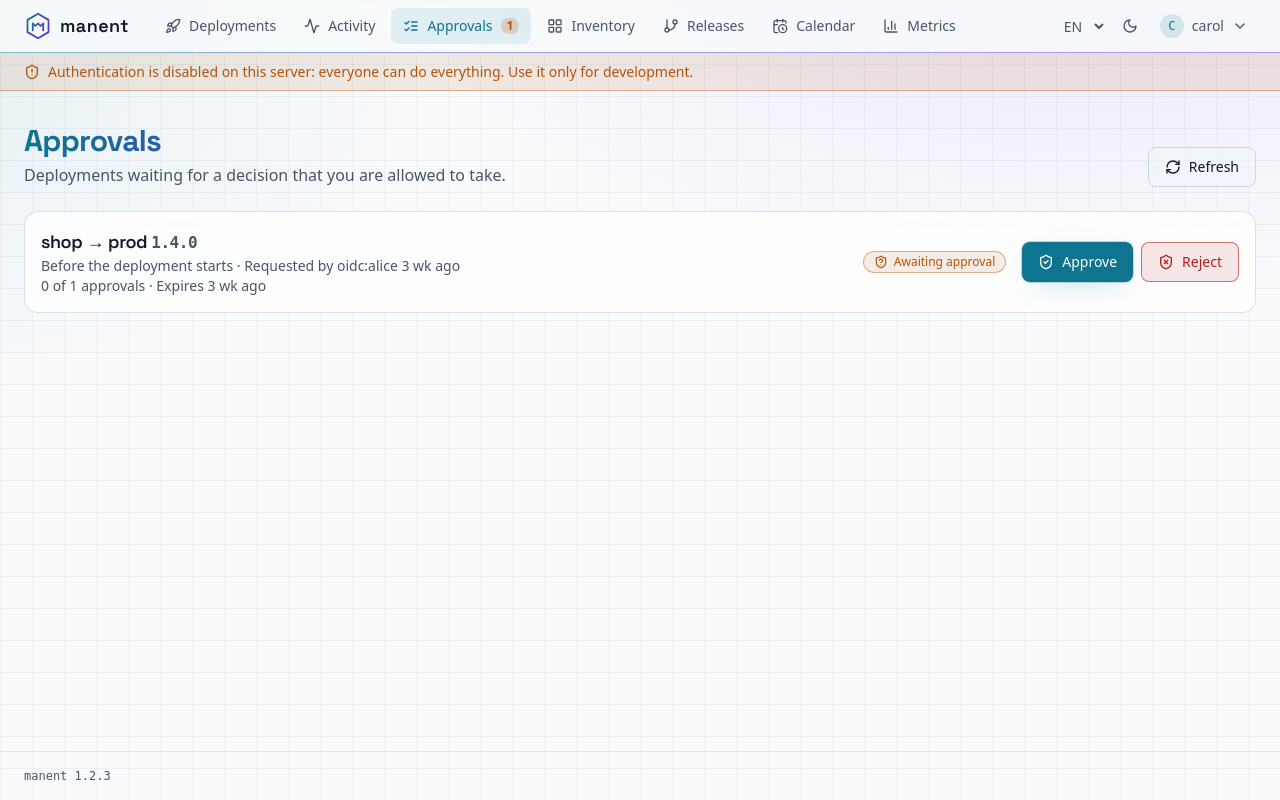
Test: approvazioni › approva con un commento
Click the button "Approve": (1078,262) [1022,242,1133,282]
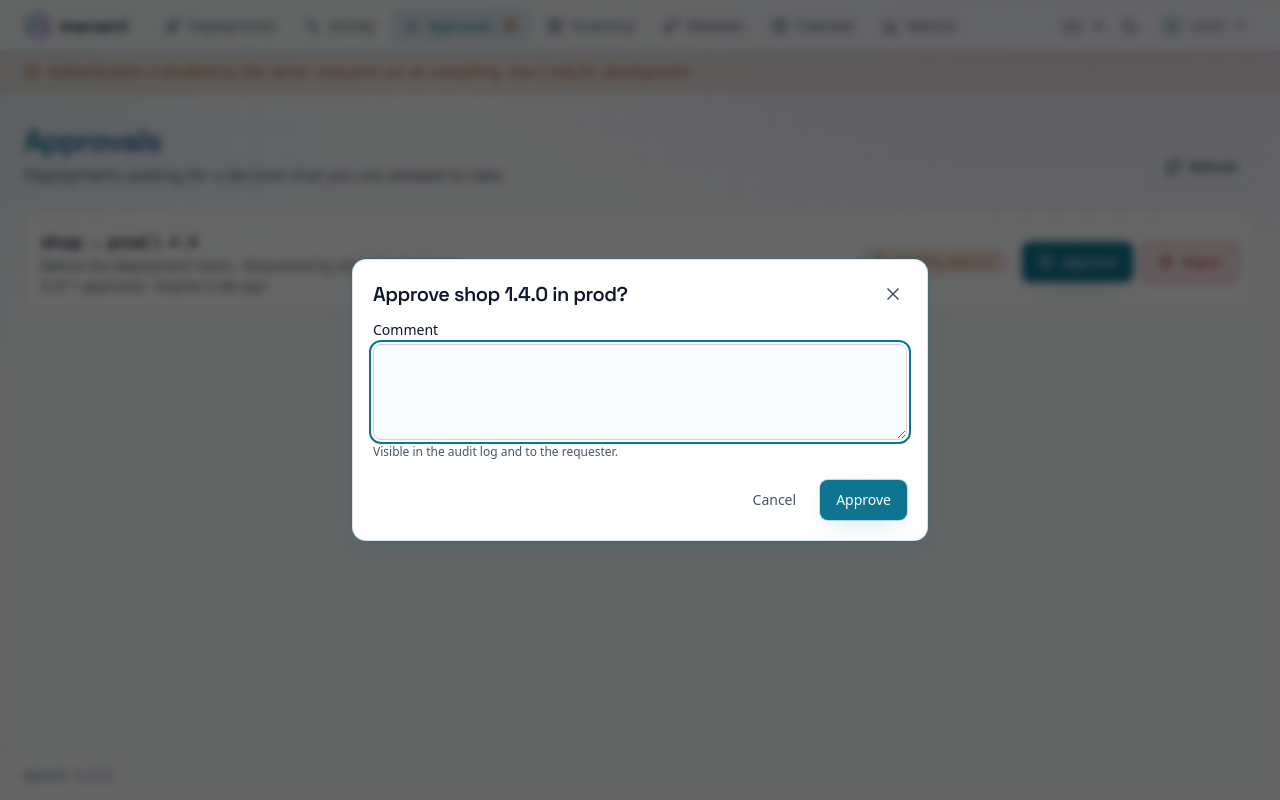
In the text box labelled "Comment": (640,392) [373,344,907,440], type "CAB-42 ok"
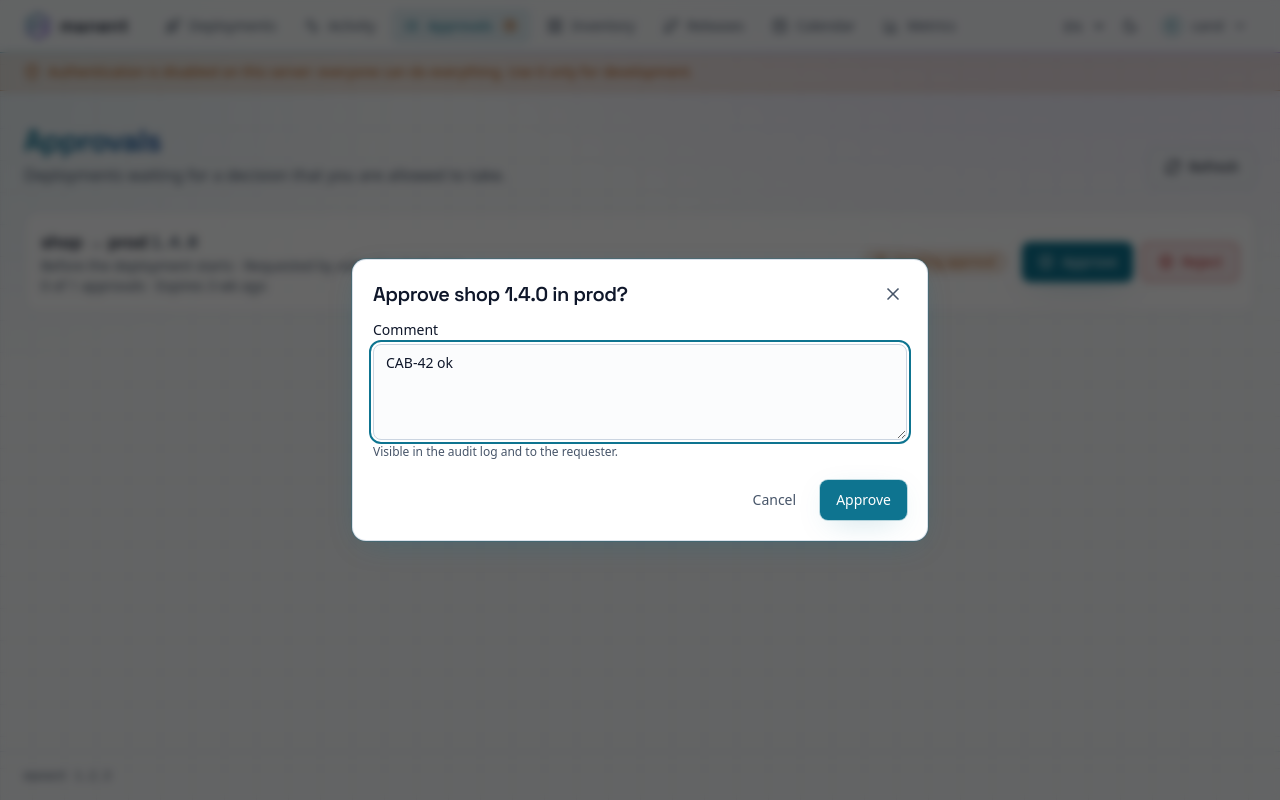
Click the button "Approve": (864,500) [820,480,907,520]
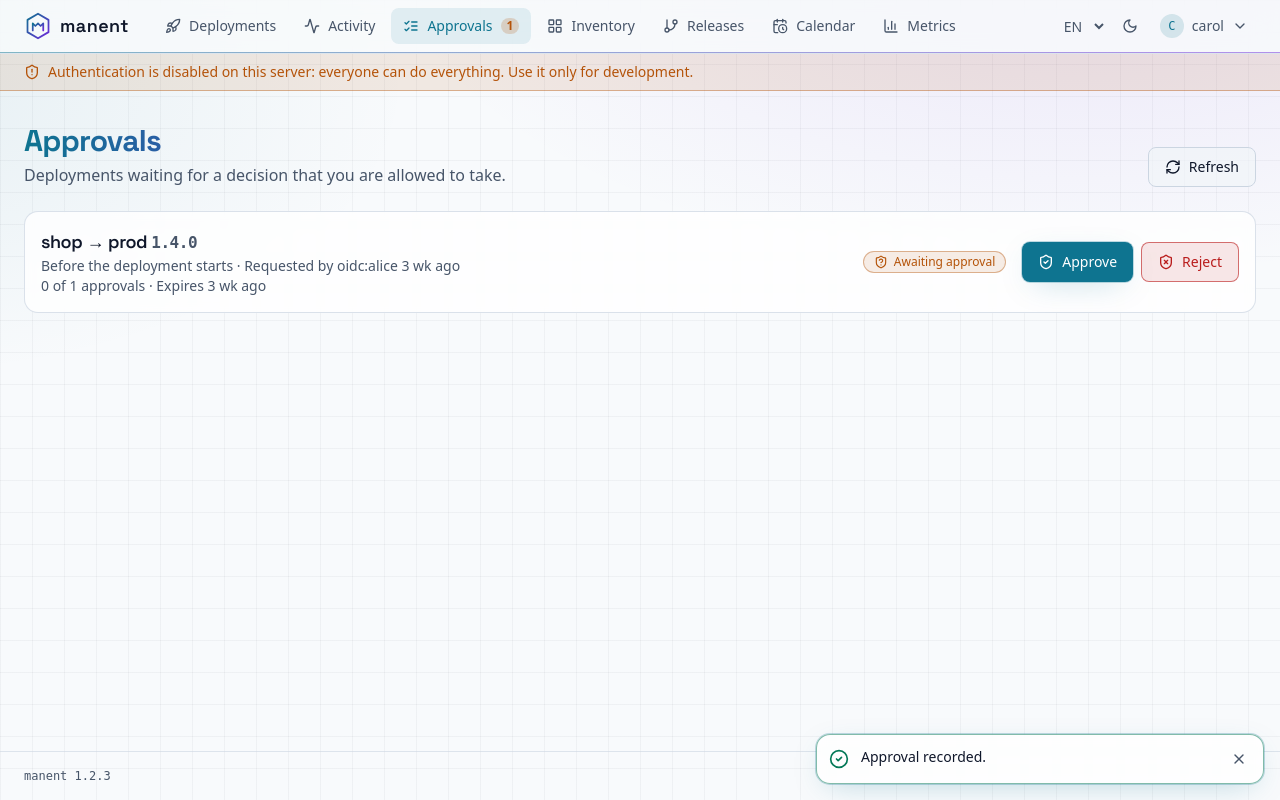
Now the text "Approval recorded." is shown, box [861,747,986,766]
